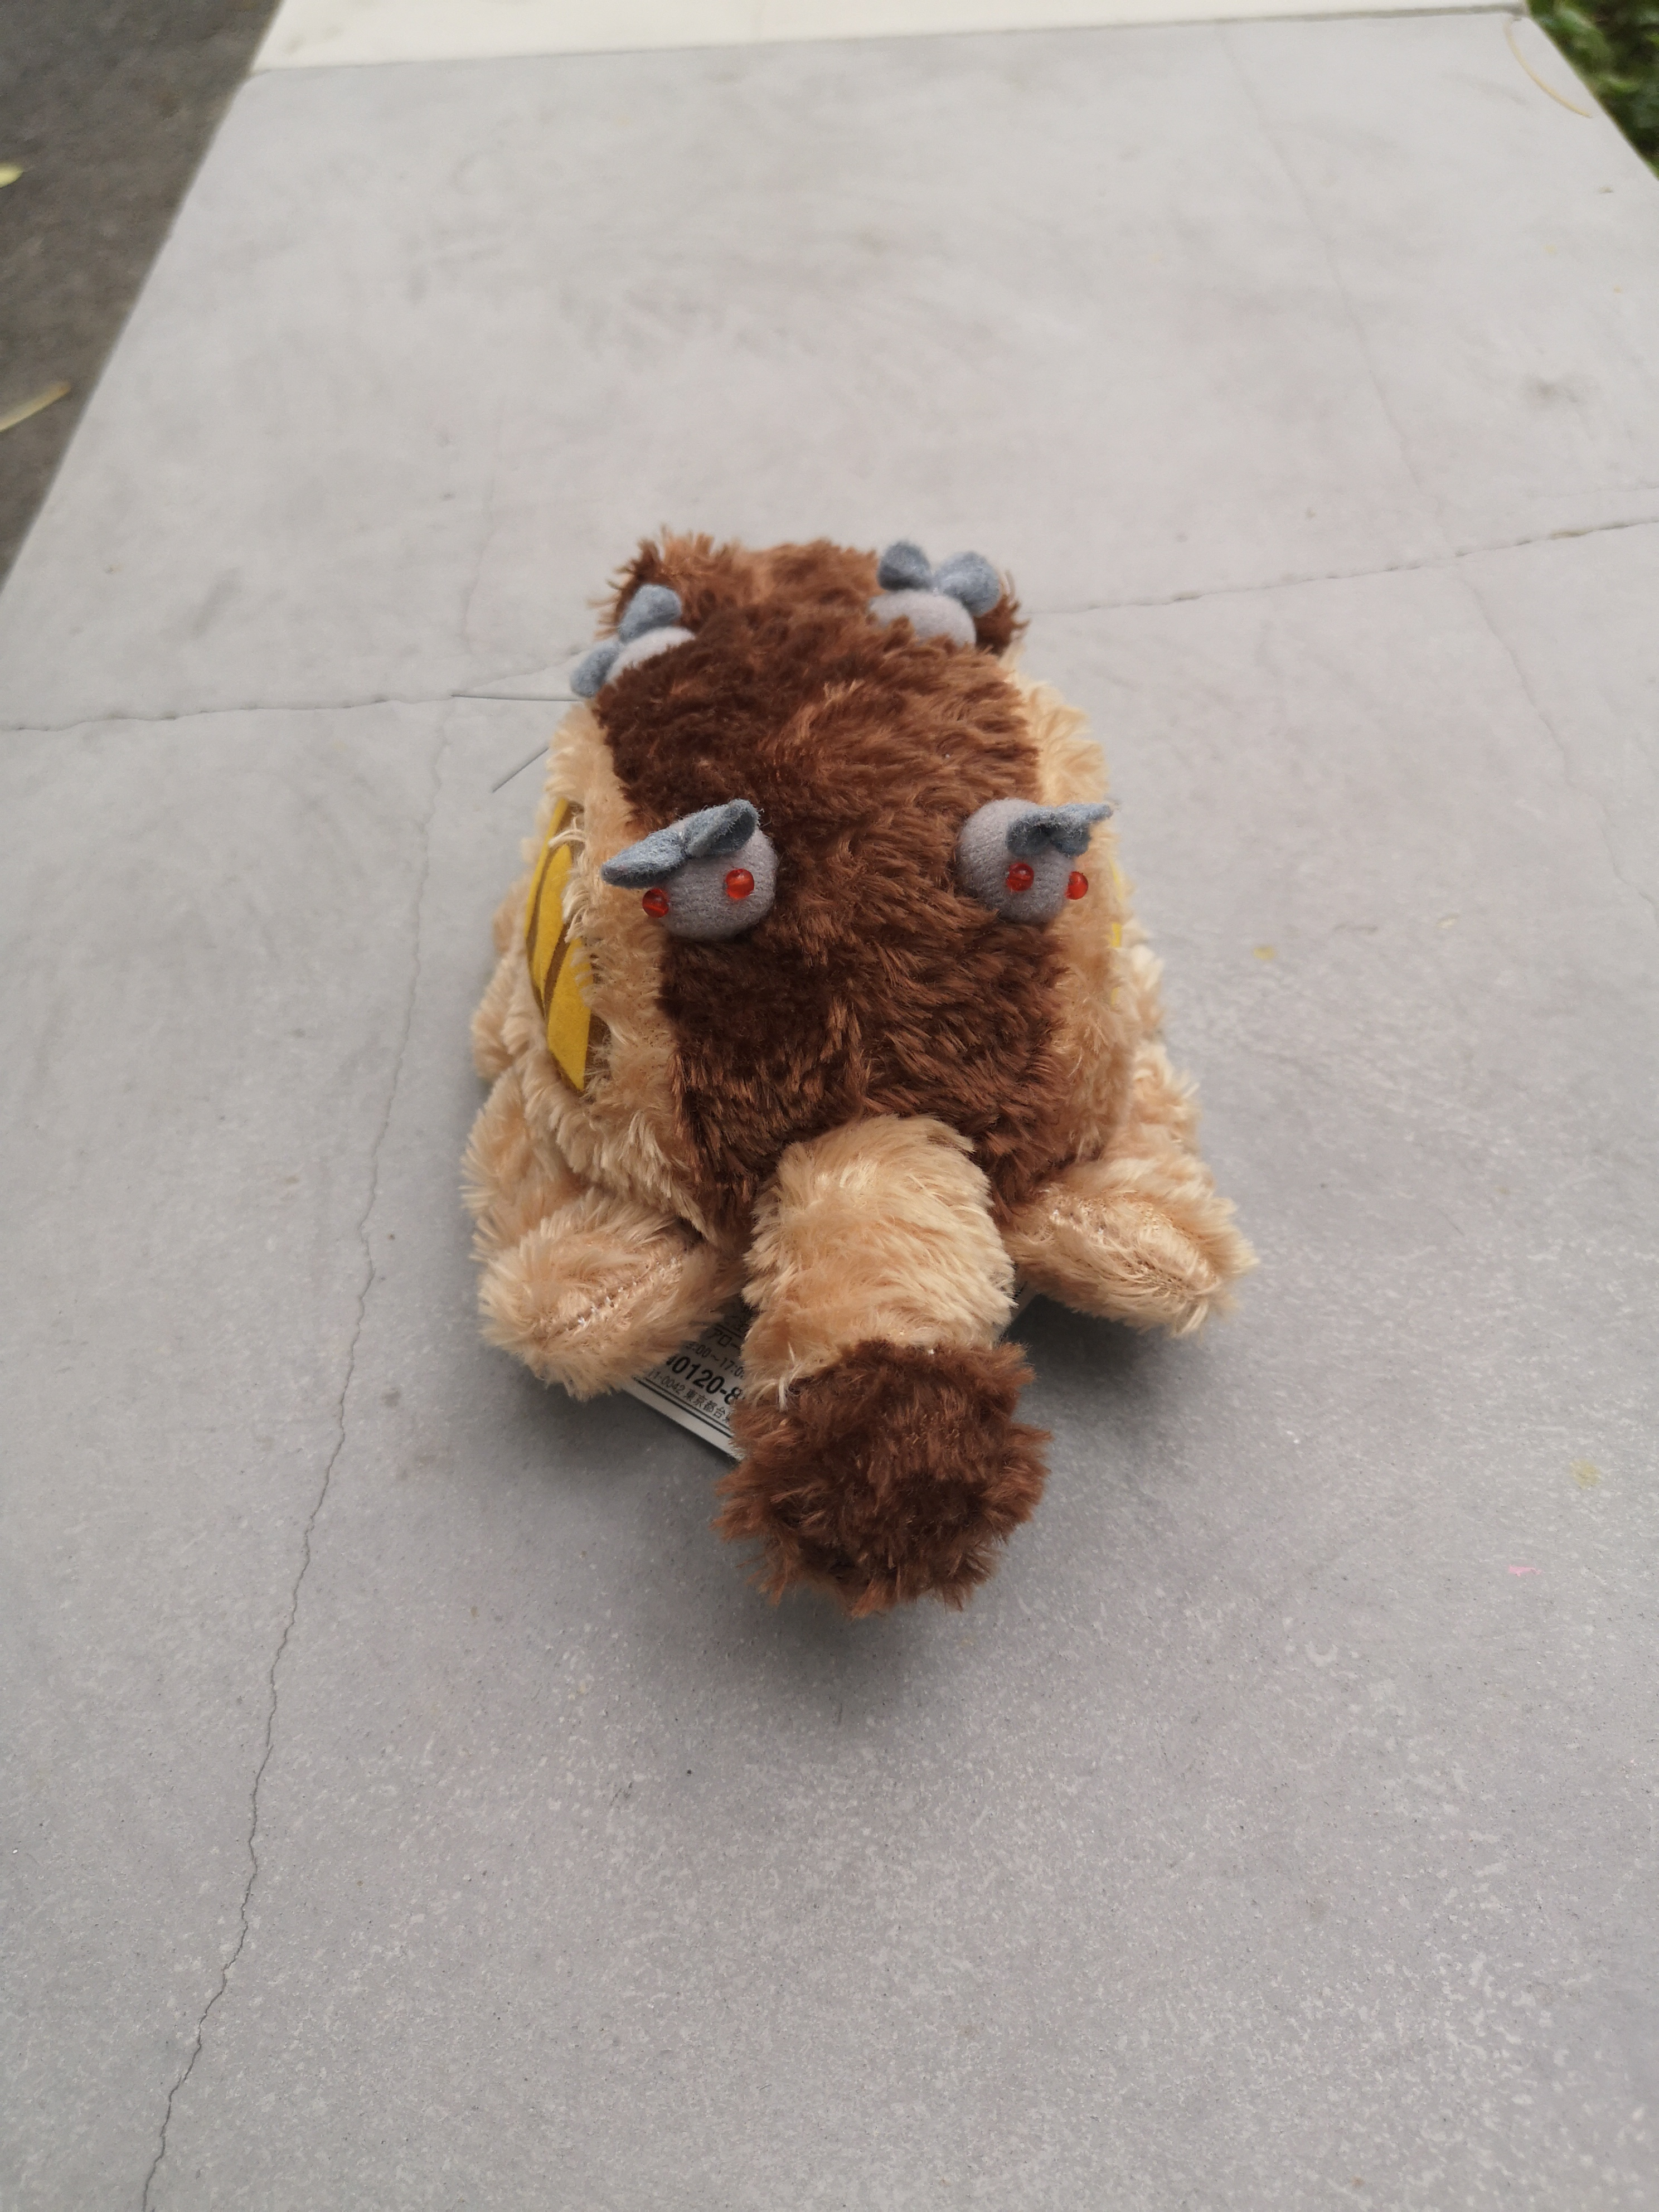nekobus: (439, 510, 1256, 1641)
